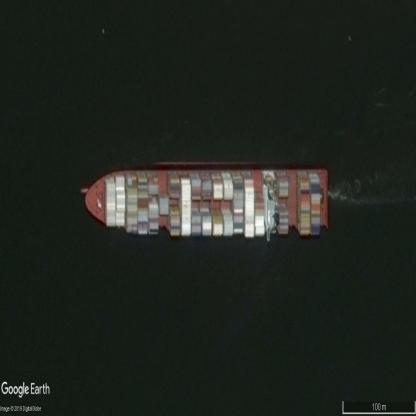ship: (84, 163, 330, 237)
